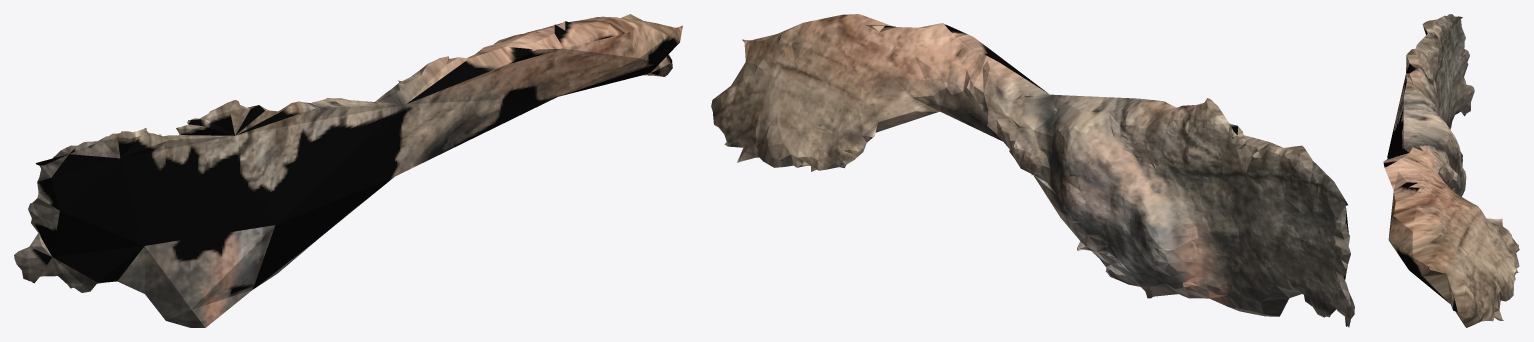
Rendered from texturedMesh.obj.
3 views of the same model, side by side, from view 1: azimuth 30°, elevation 25°; view 2: azimuth 150°, elevation 25°; view 3: azimuth 270°, elevation 25° (orthographic). The views are drawn at different scales.
Parts seen in each view (by area): view 1: TexturedMesh; view 2: TexturedMesh; view 3: TexturedMesh.
Boxes of the visible parts, box(x1,y1,x2,y2) form: TexturedMesh: box(14, 14, 682, 327); TexturedMesh: box(711, 14, 1354, 327); TexturedMesh: box(1383, 14, 1519, 327).
Size of the model in its own units: 1.01 by 0.3113 by 0.2222.
Materials: 1 (1 with a texture image).
